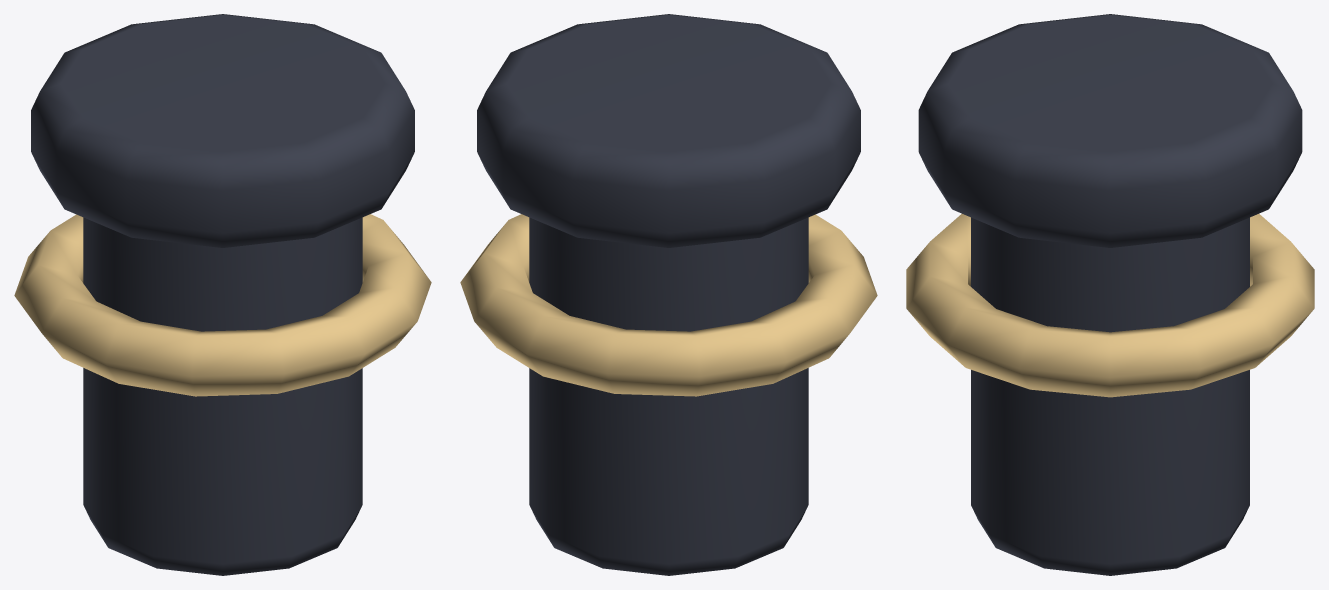
The model's file is cove_bollard.glb.
The picture shows the model from 3 angles, left to right: view 1: azimuth 30°, elevation 25°; view 2: azimuth 150°, elevation 25°; view 3: azimuth 270°, elevation 25°; orthographic projection.
Parts seen in each view (by area): view 1: Bollard; view 2: Bollard; view 3: Bollard.
Boxes of the visible parts, x1,y1,x2,y2 form: Bollard: (14,14,431,575); Bollard: (460,14,877,575); Bollard: (906,14,1314,575).
Size of the model in its own units: 0.72 by 0.84 by 0.7019.
